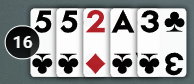2: (82, 9, 107, 35)
3: (137, 7, 162, 36)
5: (55, 7, 81, 36), (31, 7, 55, 34)
a: (109, 9, 136, 37)
